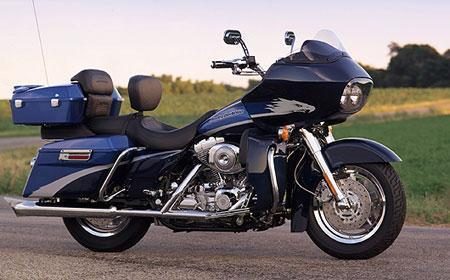motorcycle: (12, 22, 416, 264)
